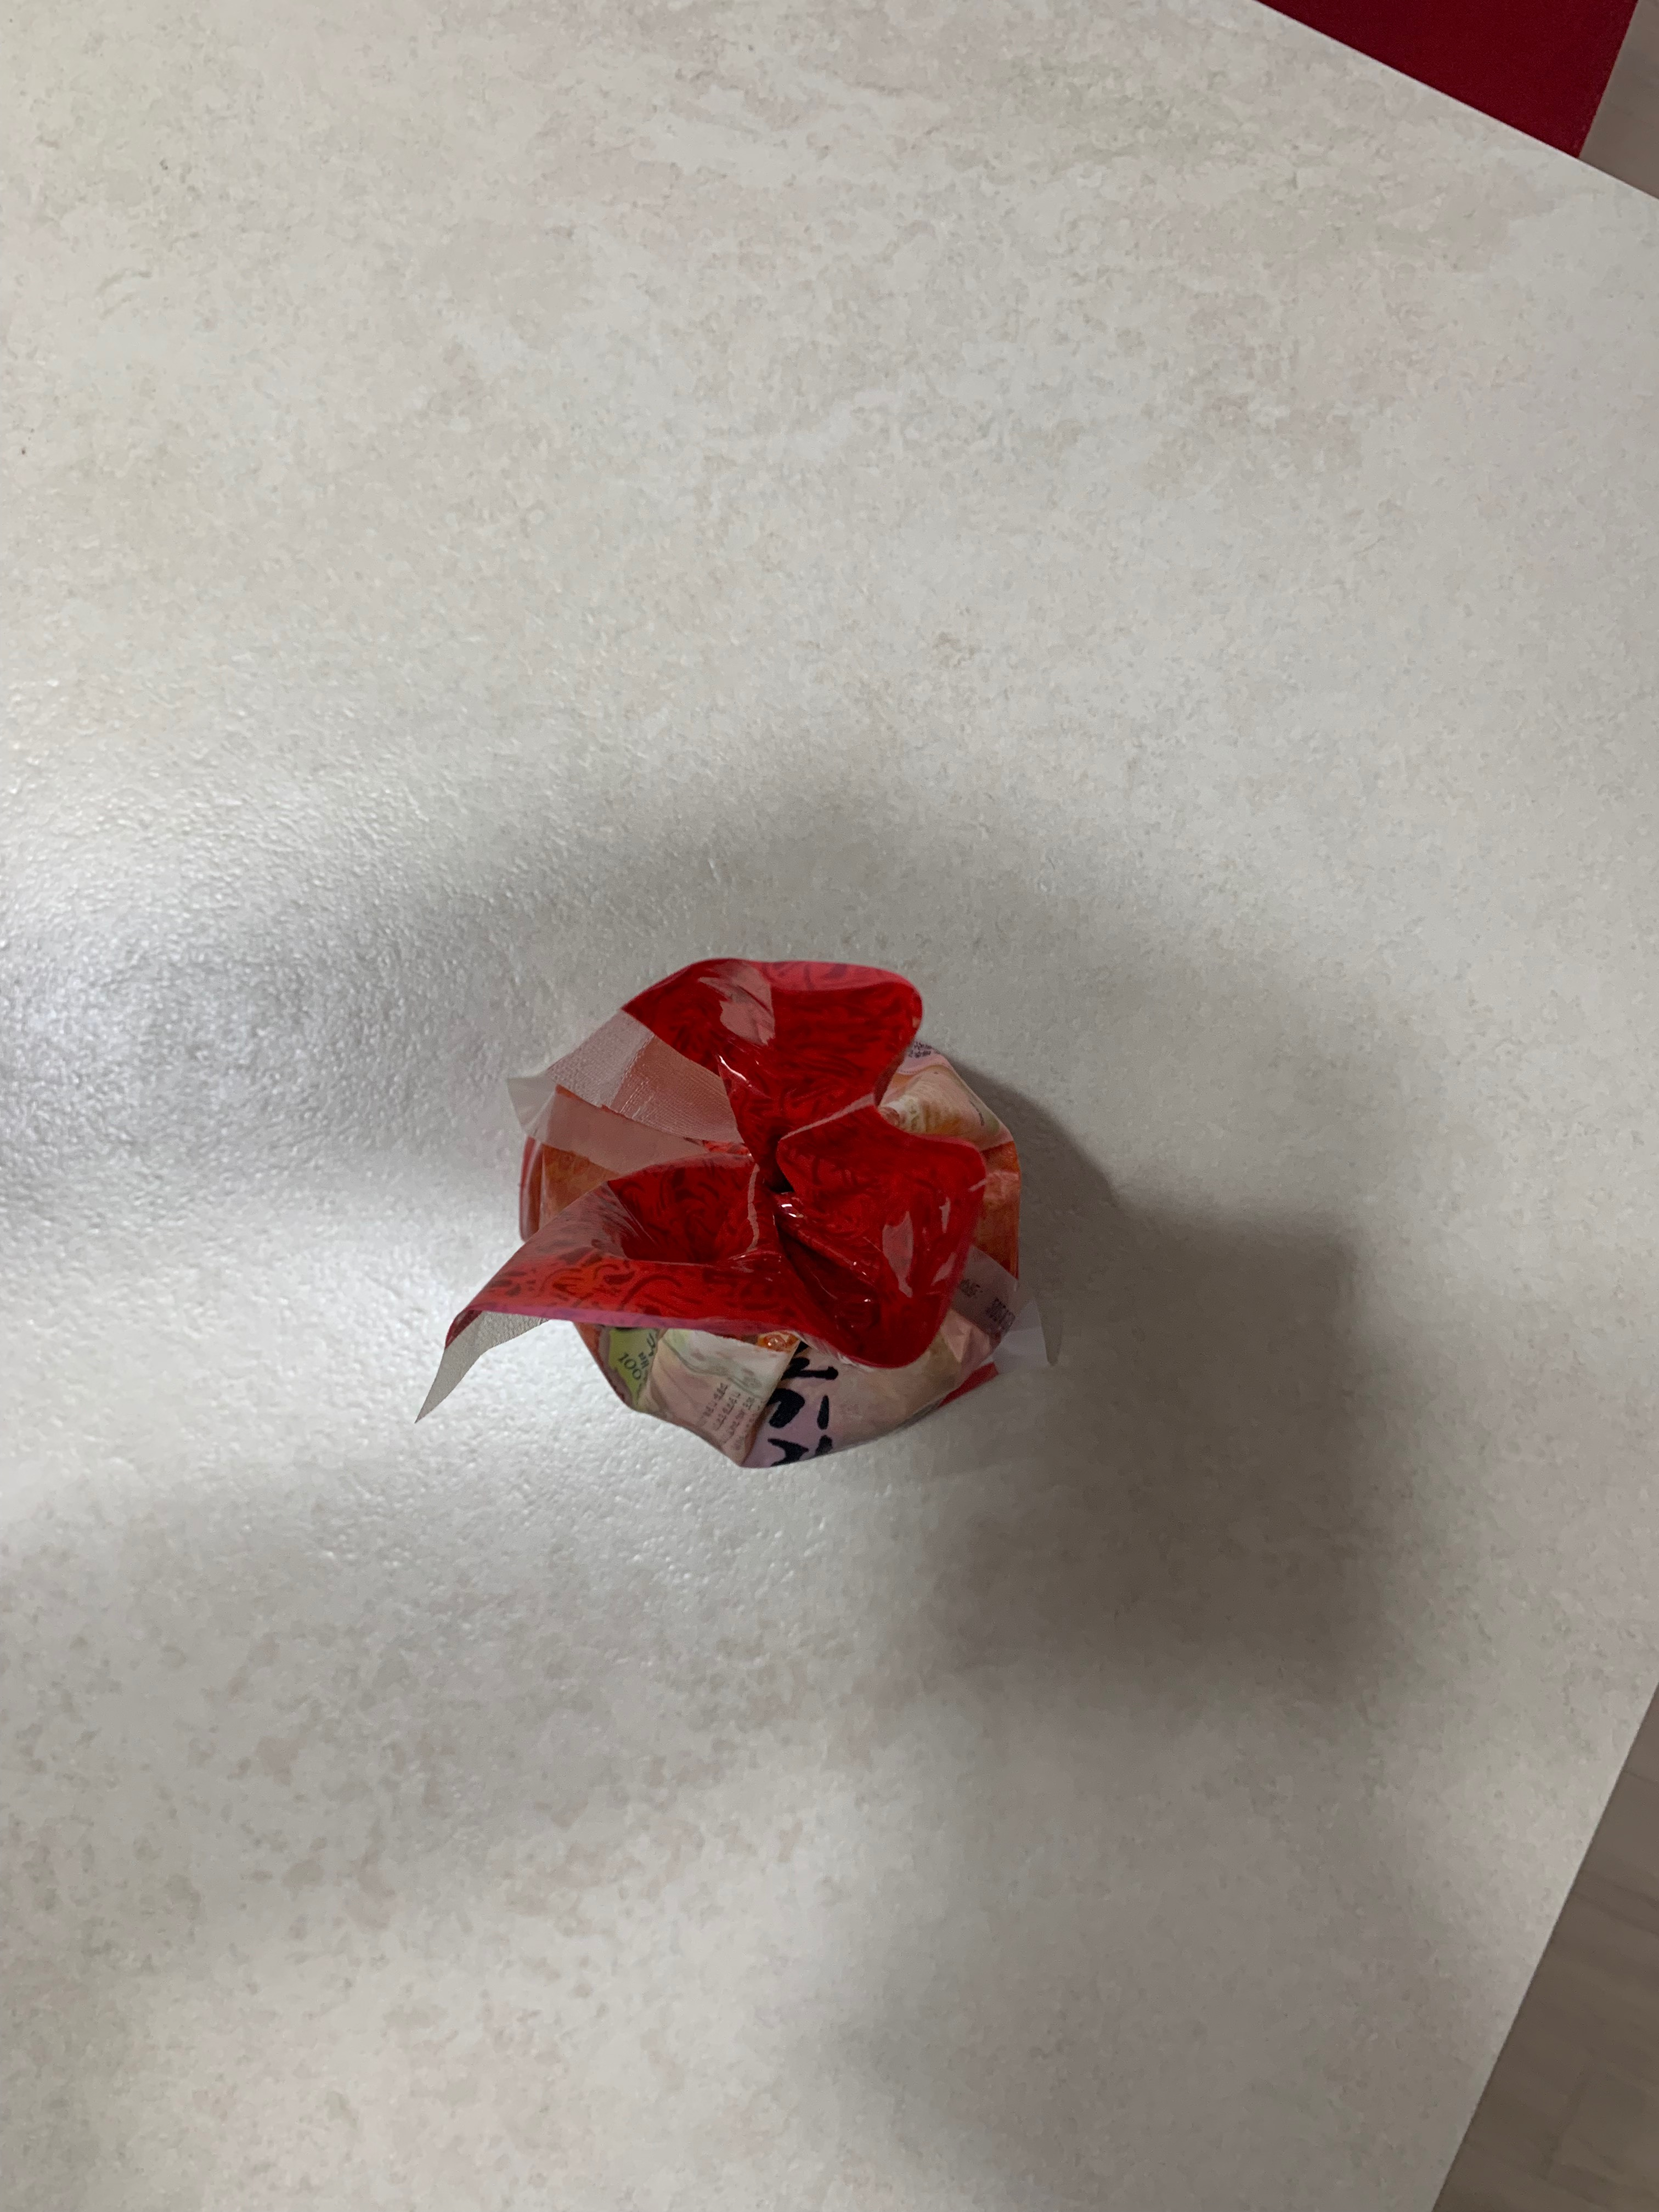kimchi: (446, 953, 1030, 1474)
